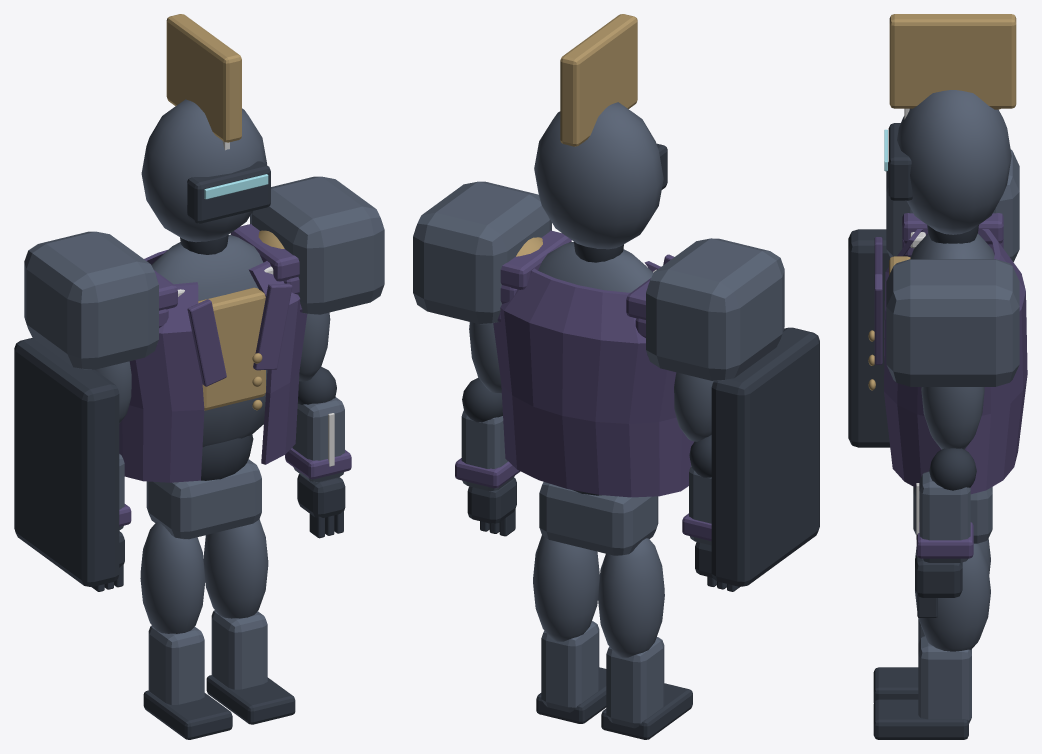
Rendered from strix.glb.
3 renders of one model, left to right at view 1: azimuth 30°, elevation 25°; view 2: azimuth 150°, elevation 25°; view 3: azimuth 270°, elevation 25°, orthographic. The views are drawn at different scales.
Visible parts, largest first — view 1: Sentinel guard shield, Sentinel cuirass, Sentinel broad shoulder shield, Sentinel broad shoulder shield.001, Helmet, Guard split crest, Articulated thorax, Pelvis, Thigh R, Thigh L, Sternum shield, Shin L (+15 smaller); view 2: Sentinel cuirass, Sentinel guard shield, Sentinel broad shoulder shield, Helmet, Sentinel broad shoulder shield.001, Guard split crest, Pelvis, Thigh R, Thigh L, Shin R, Shin L, Articulated thorax (+11 smaller); view 3: Sentinel broad shoulder shield.001, Helmet, Guard split crest, Sentinel cuirass, Sentinel guard shield, Thigh L, Shin L, Upper arm L, Bracer L, Foot L, Sentinel broad shoulder shield, Hand L (+11 smaller).
Part boxes in pixels (left/top/right/bottom): Sentinel guard shield: left=14, top=337, right=119, bottom=586; Sentinel cuirass: left=119, top=250, right=307, bottom=482; Sentinel broad shoulder shield: left=24, top=231, right=158, bottom=369; Sentinel broad shoulder shield.001: left=250, top=176, right=384, bottom=314; Helmet: left=141, top=99, right=266, bottom=242; Guard split crest: left=166, top=14, right=241, bottom=142; Articulated thorax: left=151, top=235, right=267, bottom=447; Pelvis: left=146, top=459, right=261, bottom=539; Thigh R: left=140, top=522, right=205, bottom=633; Thigh L: left=203, top=519, right=268, bottom=618; Sternum shield: left=198, top=287, right=265, bottom=410; Shin L: left=211, top=610, right=267, bottom=689; Sentinel cuirass: left=493, top=261, right=693, bottom=497; Sentinel guard shield: left=711, top=327, right=819, bottom=586; Sentinel broad shoulder shield: left=646, top=238, right=784, bottom=380; Helmet: left=534, top=102, right=663, bottom=249; Sentinel broad shoulder shield.001: left=413, top=181, right=551, bottom=324; Guard split crest: left=560, top=14, right=637, bottom=146; Pelvis: left=539, top=482, right=658, bottom=555; Thigh R: left=598, top=538, right=664, bottom=657; Thigh L: left=533, top=535, right=599, bottom=641; Shin R: left=606, top=637, right=664, bottom=728; Shin L: left=541, top=621, right=599, bottom=712; Articulated thorax: left=538, top=242, right=653, bottom=292; Sentinel broad shoulder shield.001: left=886, top=259, right=1019, bottom=386; Helmet: left=897, top=90, right=1011, bottom=234; Guard split crest: left=889, top=14, right=1016, bottom=108; Sentinel cuirass: left=884, top=229, right=1027, bottom=494; Sentinel guard shield: left=848, top=229, right=890, bottom=447; Thigh L: left=915, top=543, right=990, bottom=651; Shin L: left=918, top=636, right=971, bottom=723; Upper arm L: left=921, top=387, right=984, bottom=449; Bracer L: left=919, top=471, right=970, bottom=562; Foot L: left=873, top=699, right=968, bottom=739; Sentinel broad shoulder shield: left=886, top=149, right=1019, bottom=261; Hand L: left=915, top=555, right=962, bottom=597.
Size of the model in its own units: 1.24 by 2.42 by 0.565.
